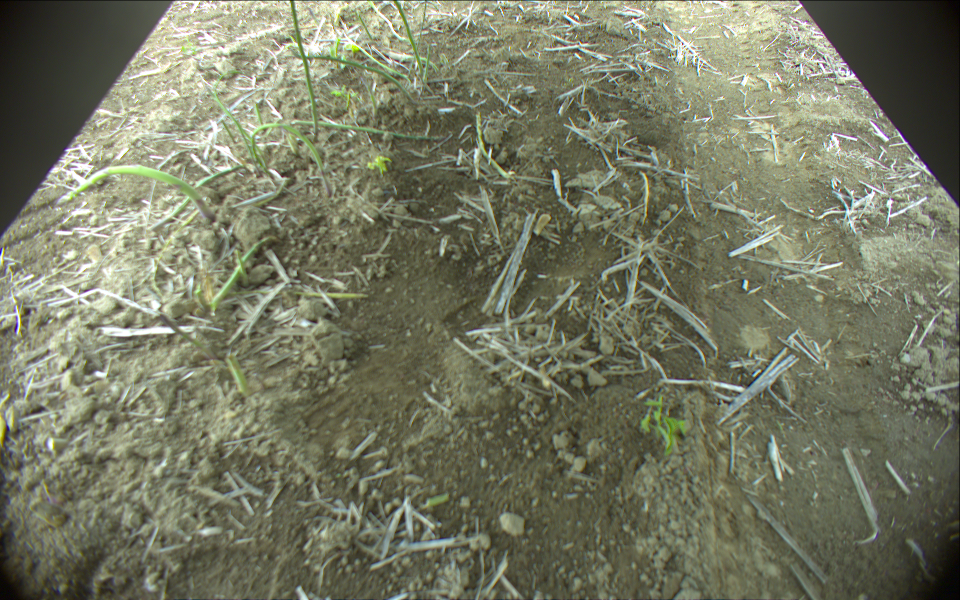aspa: (60, 163, 218, 224), (287, 50, 417, 105), (204, 234, 279, 310), (164, 164, 249, 223), (286, 1, 320, 143), (204, 80, 260, 159), (286, 117, 447, 143), (246, 121, 326, 169), (156, 311, 221, 369), (475, 113, 515, 179), (368, 1, 410, 43), (407, 1, 429, 75), (288, 289, 375, 303), (385, 50, 439, 72), (222, 351, 247, 397), (232, 251, 255, 290), (217, 119, 242, 148), (355, 13, 376, 42), (252, 101, 269, 135), (422, 46, 438, 76)
